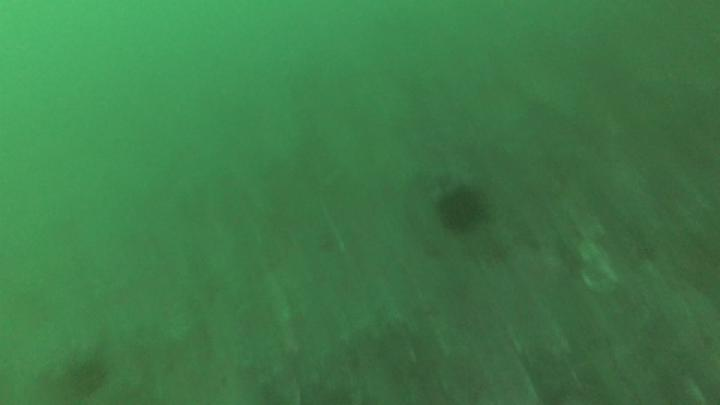echinus: (438, 188, 488, 234), (67, 366, 104, 397)
